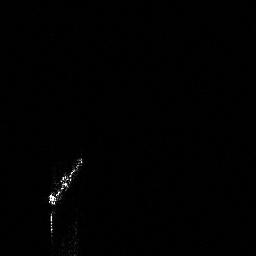ship: (43, 150, 87, 209)
